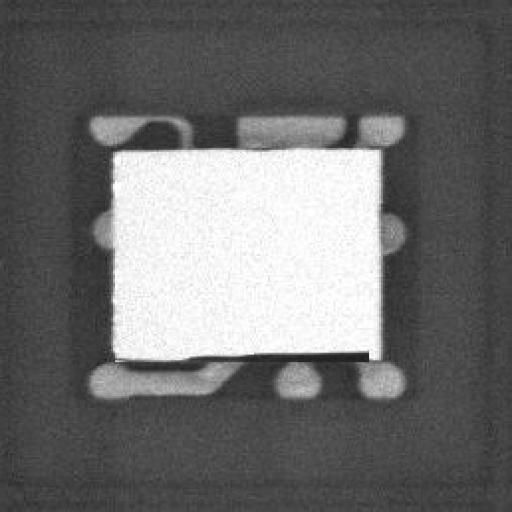DIE_BROKEN: (187, 344, 369, 360)
